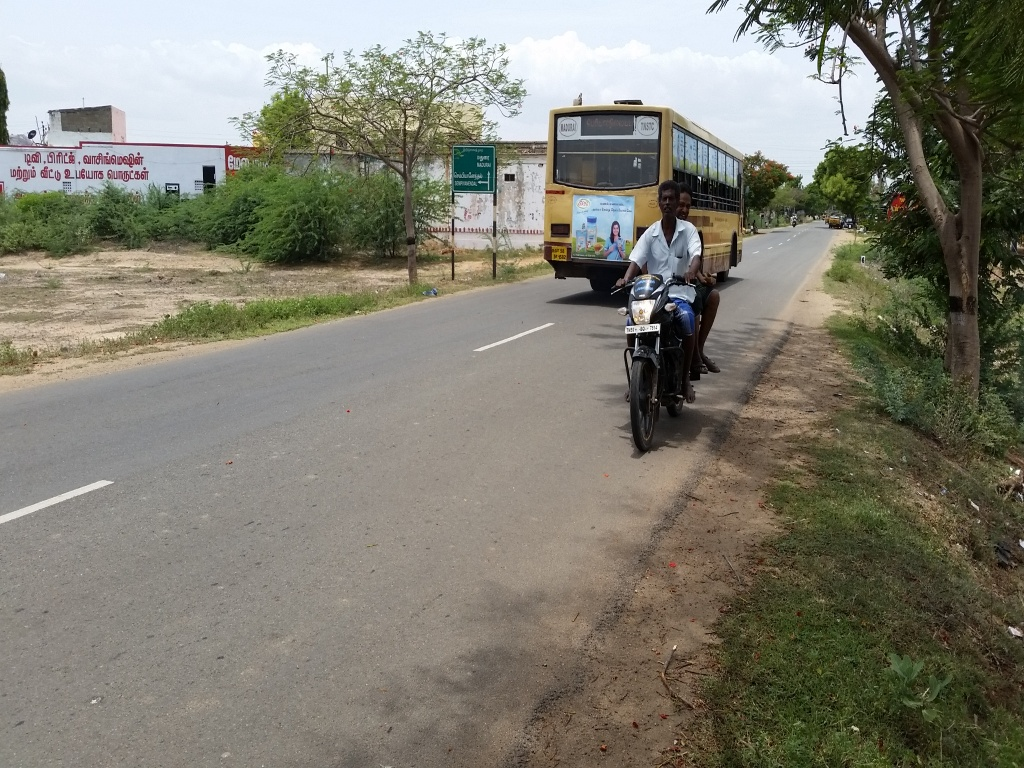biker: (604, 150, 737, 460)
nohelmet: (675, 176, 700, 230), (652, 173, 677, 227)
